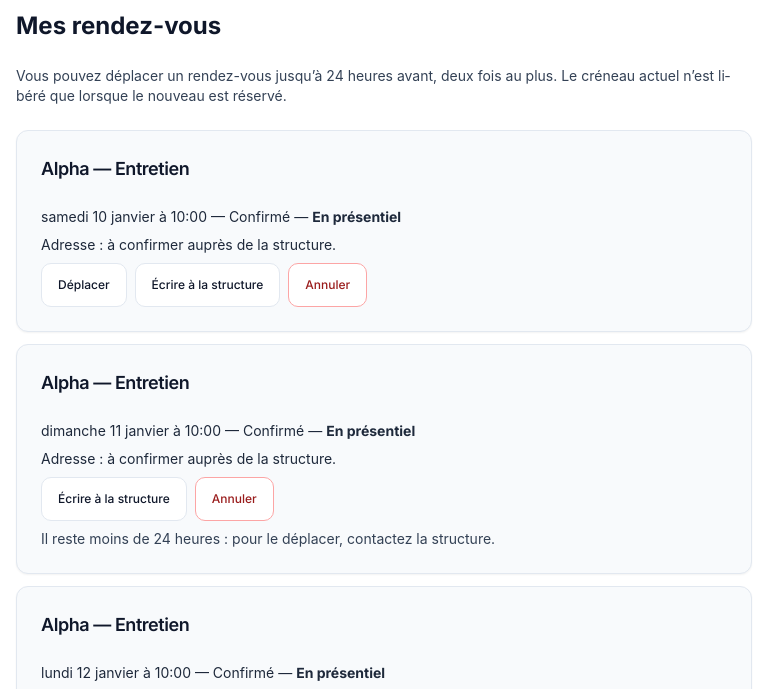
Test: Mes rendez-vous › moves to the picked free slot (never the current one) and reports success
What coordinates should you click on to do the following:
click the button with test id "rdv-move"
I would click on:
 (84, 285)
Its box is [41,263,127,307].
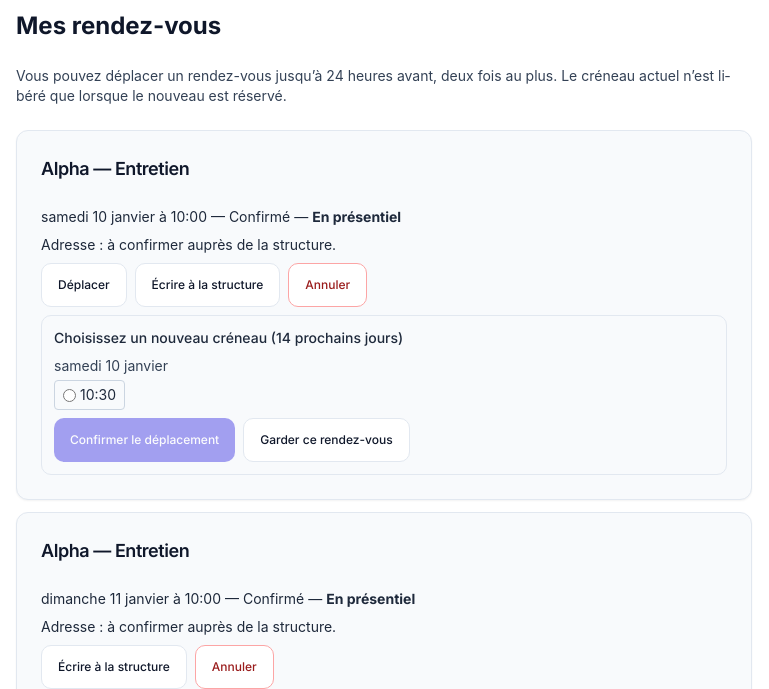
Now the button with test id "rdv-move-confirm" is disabled, box [54,418,235,462]
What coordinates should you click on to do the following:
click the radio button with test id "rdv-slot"
I would click on:
 (70, 395)
Its box is [63,388,76,402].
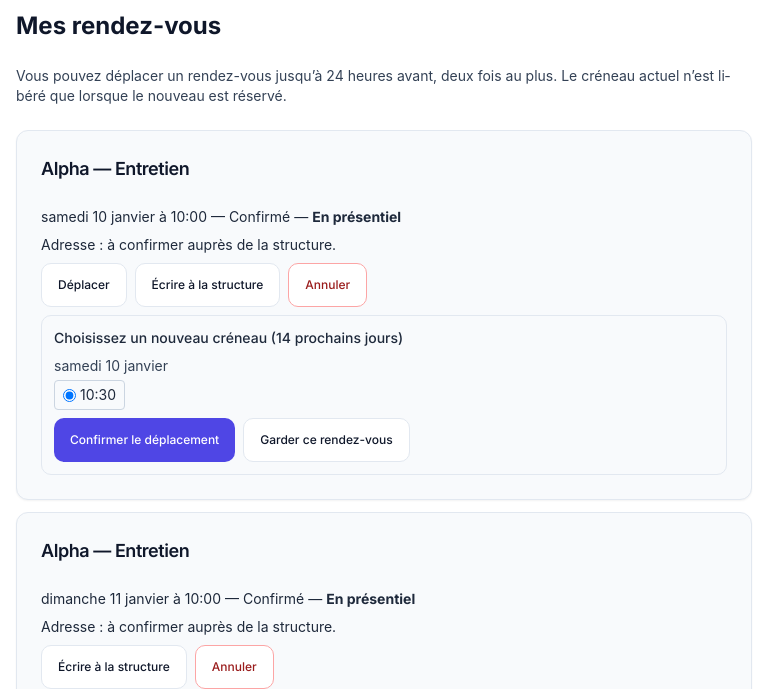
What coordinates should you click on to do the following:
click the button with test id "rdv-move-confirm"
I would click on:
 (145, 440)
Its box is [54,418,235,462].
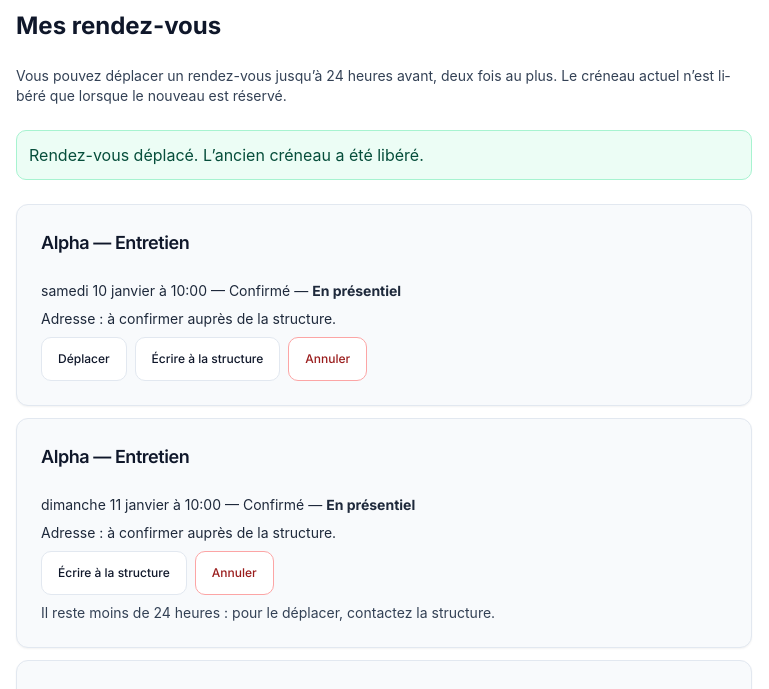
Now the message with test id "rdv-status" shows "L’ancien créneau a été libéré", box [29,145,424,165]
